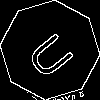U: (25, 25, 84, 82)
